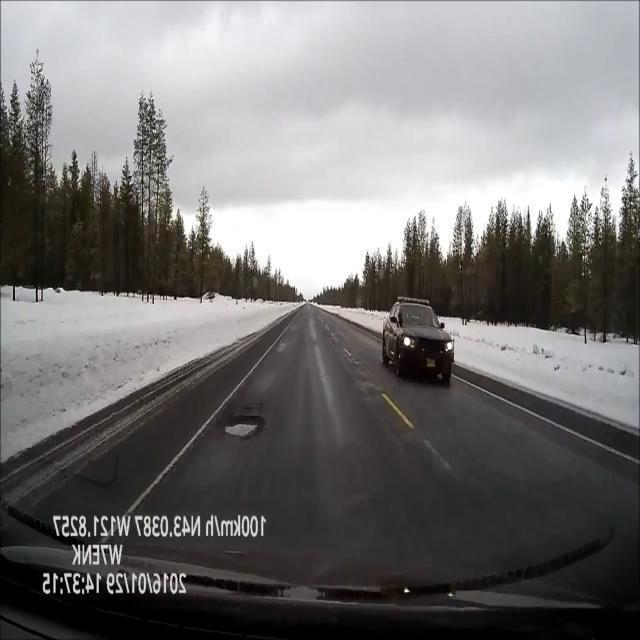pothole: (218, 402, 268, 450)
